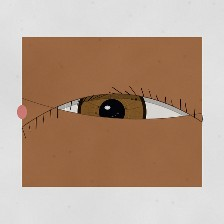hemorrhage_spot: (76, 82, 148, 139)
